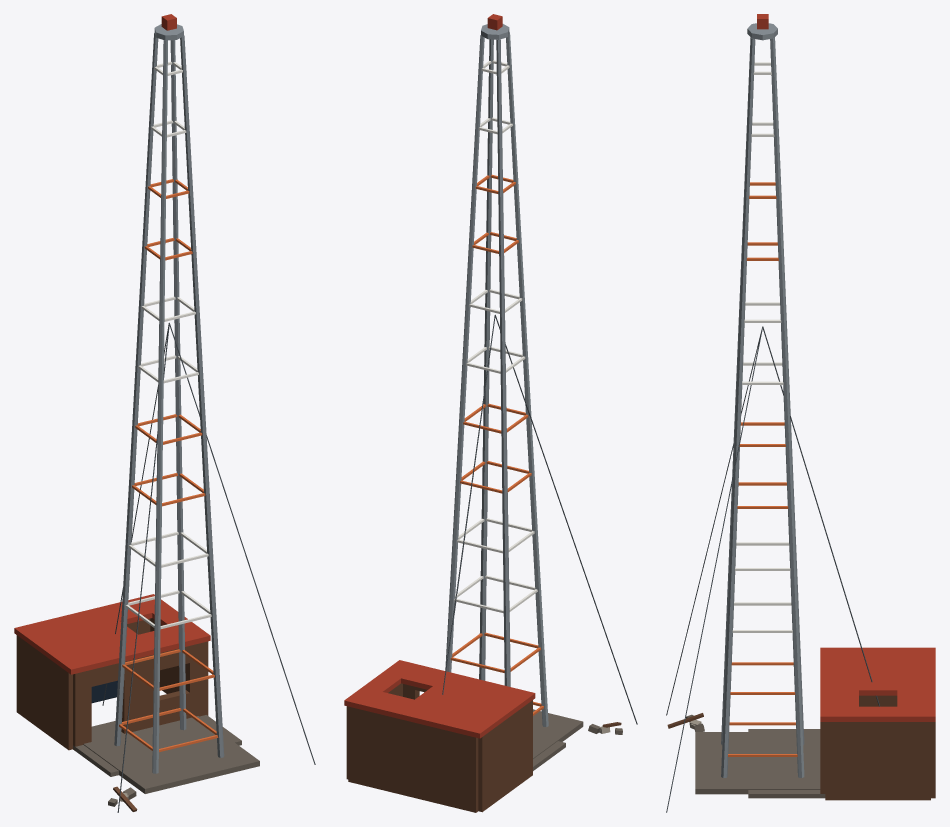
Rendered from Bldg_RadioTower.fbx.
3 renders of one model, left to right at view 1: azimuth 30°, elevation 25°; view 2: azimuth 150°, elevation 25°; view 3: azimuth 270°, elevation 25°, orthographic. The views are drawn at different scales.
Parts seen in each view (by area): view 1: Decor, Roof, Pad, Leg1, Leg3, Shack8, Leg2, Leg4, Shack3, Shack1, Shack6, Floor (+2 smaller); view 2: Shack7, Roof, Decor, Shack8, Leg1, Leg2, Leg4, Leg3, Pad; view 3: Shack9, Roof, Pad, Decor, Leg4, Leg3, Leg1, Leg2, Floor.
Part boxes in pixels (x1,y1,x2,y2): Decor: (102, 24, 315, 812); Roof: (14, 594, 210, 674); Pad: (83, 716, 259, 793); Leg1: (152, 40, 167, 773); Leg3: (180, 35, 224, 757); Shack8: (16, 635, 72, 750); Leg2: (114, 33, 158, 746); Leg4: (170, 40, 186, 730); Shack3: (121, 654, 153, 733); Shack1: (73, 670, 91, 750); Shack6: (185, 642, 206, 717); Floor: (73, 715, 241, 776); Shack7: (348, 706, 478, 812); Roof: (344, 660, 535, 738); Decor: (442, 24, 637, 734); Shack8: (478, 700, 532, 812); Leg1: (506, 32, 548, 726); Leg2: (496, 39, 510, 686); Leg4: (445, 35, 484, 672); Leg3: (479, 39, 493, 680); Pad: (533, 709, 583, 758); Shack9: (825, 722, 930, 800); Roof: (820, 647, 935, 721); Pad: (695, 732, 820, 794); Decor: (666, 23, 879, 812); Leg4: (770, 38, 804, 777); Leg3: (721, 38, 755, 777); Leg1: (721, 37, 750, 744); Leg2: (774, 37, 804, 744); Floor: (748, 729, 825, 798).
Bounding box in the file's own units: 24.09 × 86.24 × 28.05.
